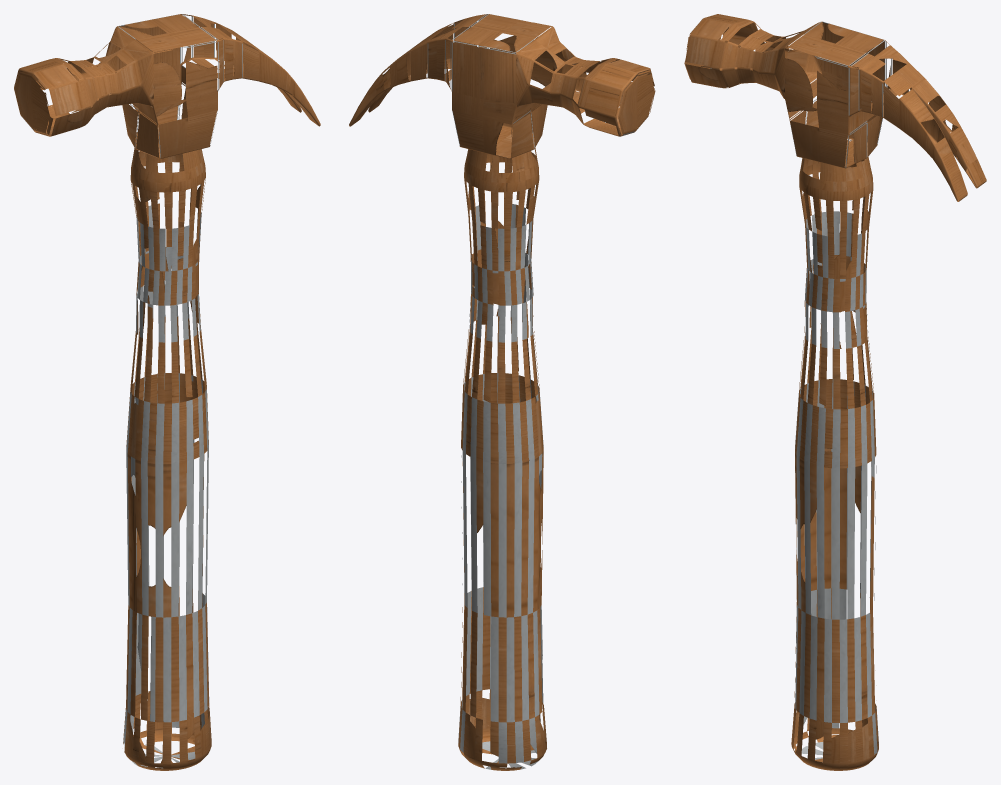
Rendered from hammer.fbx.
3 renders of one model, left to right at view 1: azimuth 30°, elevation 25°; view 2: azimuth 150°, elevation 25°; view 3: azimuth 330°, elevation 25°, orthographic.
Visible parts, largest first — view 1: Handle; view 2: Handle; view 3: Handle.
Part boxes in pixels (x1,y1,x2,y2): Handle: [14, 14, 320, 770]; Handle: [349, 14, 655, 770]; Handle: [684, 14, 986, 770].
Size of the model in its own units: 12.35 by 31.07 by 3.22.
